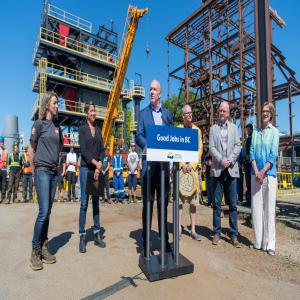blue: (13, 142, 20, 154), (131, 142, 137, 153), (116, 145, 122, 156), (1, 137, 6, 149)
none: (42, 92, 60, 121), (261, 102, 276, 127), (150, 80, 163, 106), (218, 101, 232, 124), (85, 101, 98, 124), (183, 104, 194, 127), (246, 124, 255, 137)
red: (70, 142, 76, 154)
